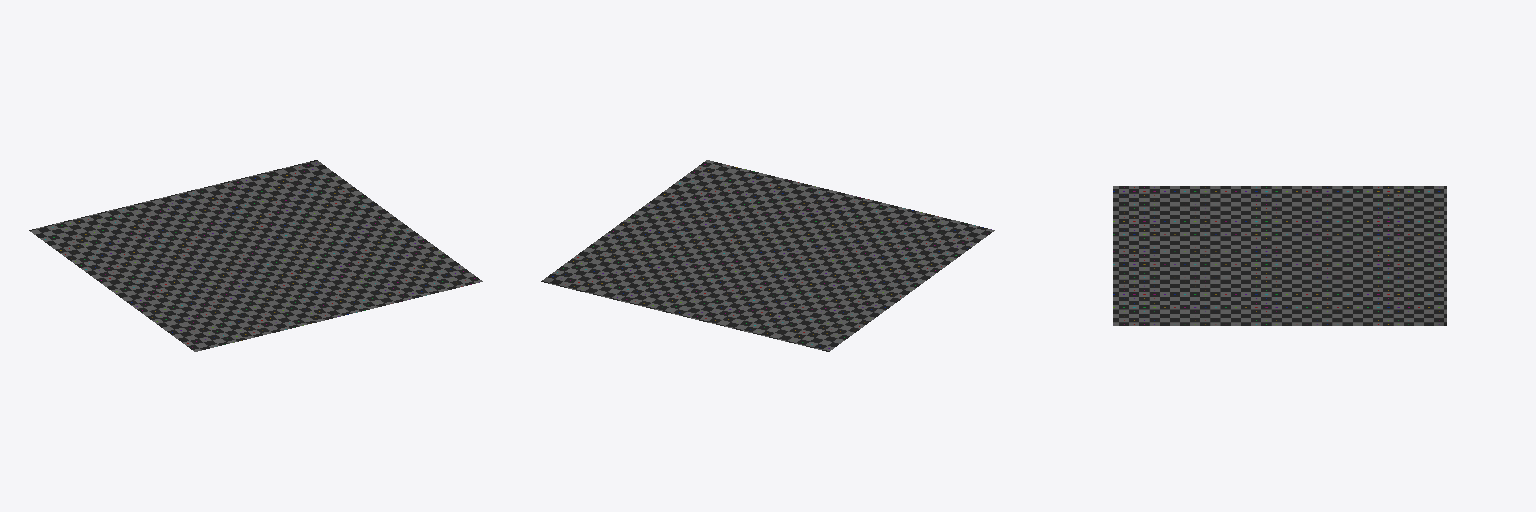
3 renders of one model, left to right at view 1: azimuth 30°, elevation 25°; view 2: azimuth 150°, elevation 25°; view 3: azimuth 270°, elevation 25°, orthographic.
Parts seen in each view (by area): view 1: Plane; view 2: Plane; view 3: Plane.
Boxes of the visible parts, box(x1,y1,x2,y2) form: Plane: box(29, 160, 482, 351); Plane: box(541, 160, 994, 351); Plane: box(1113, 186, 1446, 325).
Size of the model in its own units: 200 by 0 by 200.
1 materials, 1 textured.